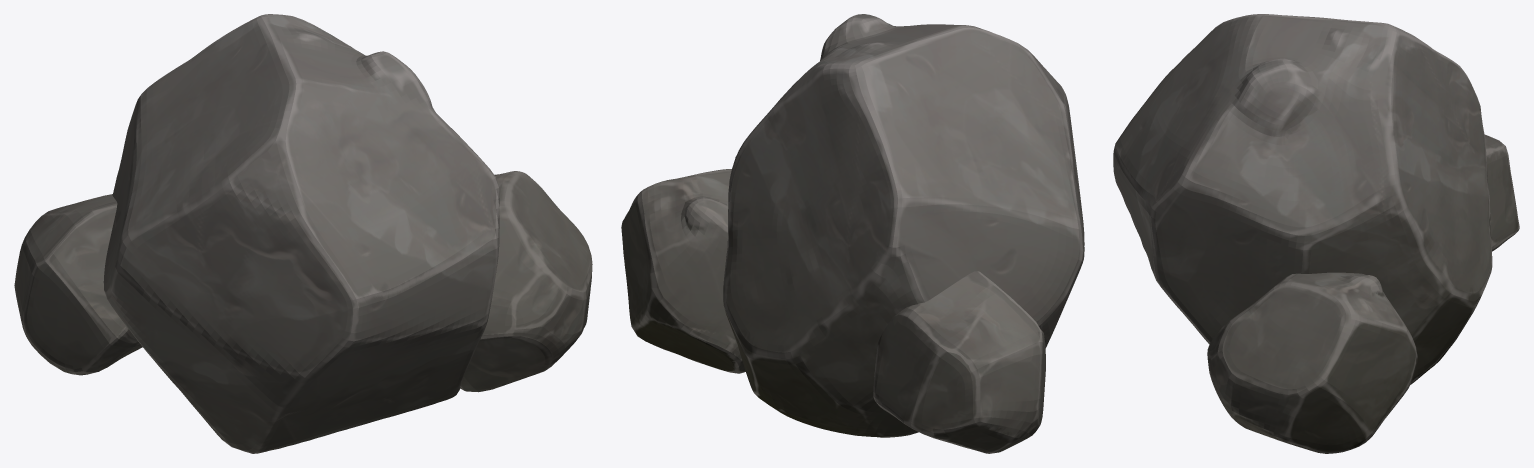
The model's file is Rock.fbx.
3 renders of one model, left to right at view 1: azimuth 30°, elevation 25°; view 2: azimuth 150°, elevation 25°; view 3: azimuth 270°, elevation 25°, orthographic. The views are drawn at different scales.
Visible parts, largest first — view 1: rock_LP; view 2: rock_LP; view 3: rock_LP.
Part boxes in pixels (x1,y1,x2,y2): rock_LP: [14, 14, 592, 453]; rock_LP: [621, 14, 1084, 453]; rock_LP: [1113, 14, 1519, 453].
Bounding box in the file's own units: 235 × 174 × 186.
Materials: 1 (1 with a texture image).
